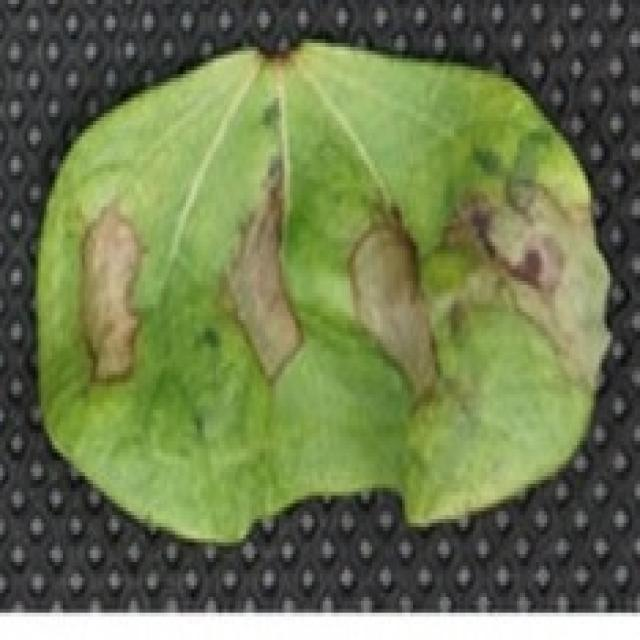Fusarium Wilt: (78, 180, 576, 396)
